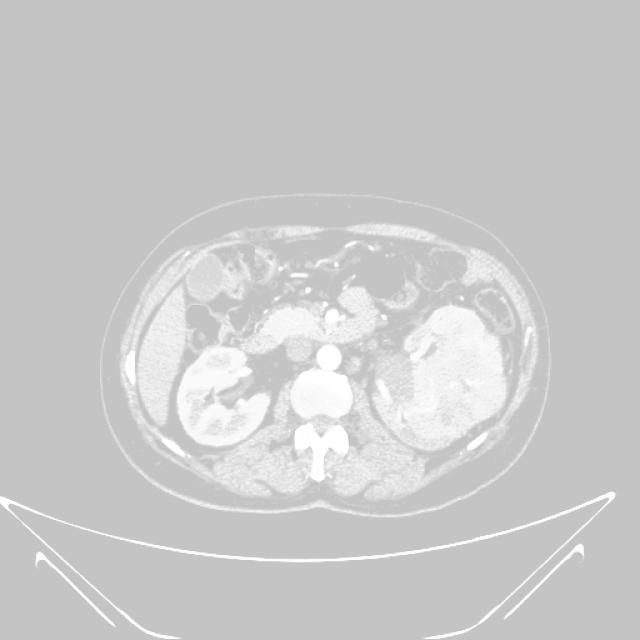TUMOR: (122, 286, 532, 431)
